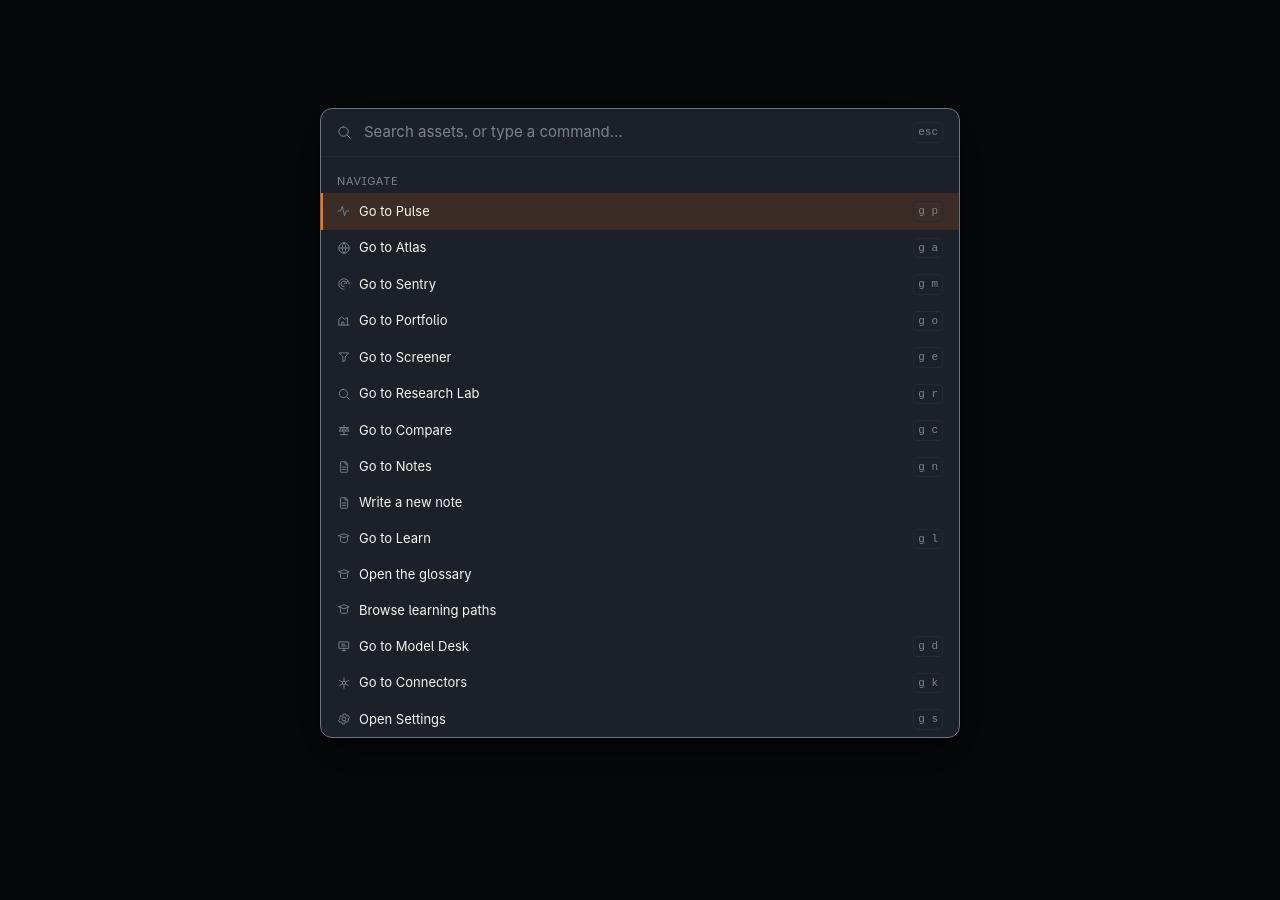
Test: CommandPalette › matches commands by keyword, not only by title
Type "sidebar" into the dropdown. click: (633, 132)
box: [352,121,913,144]
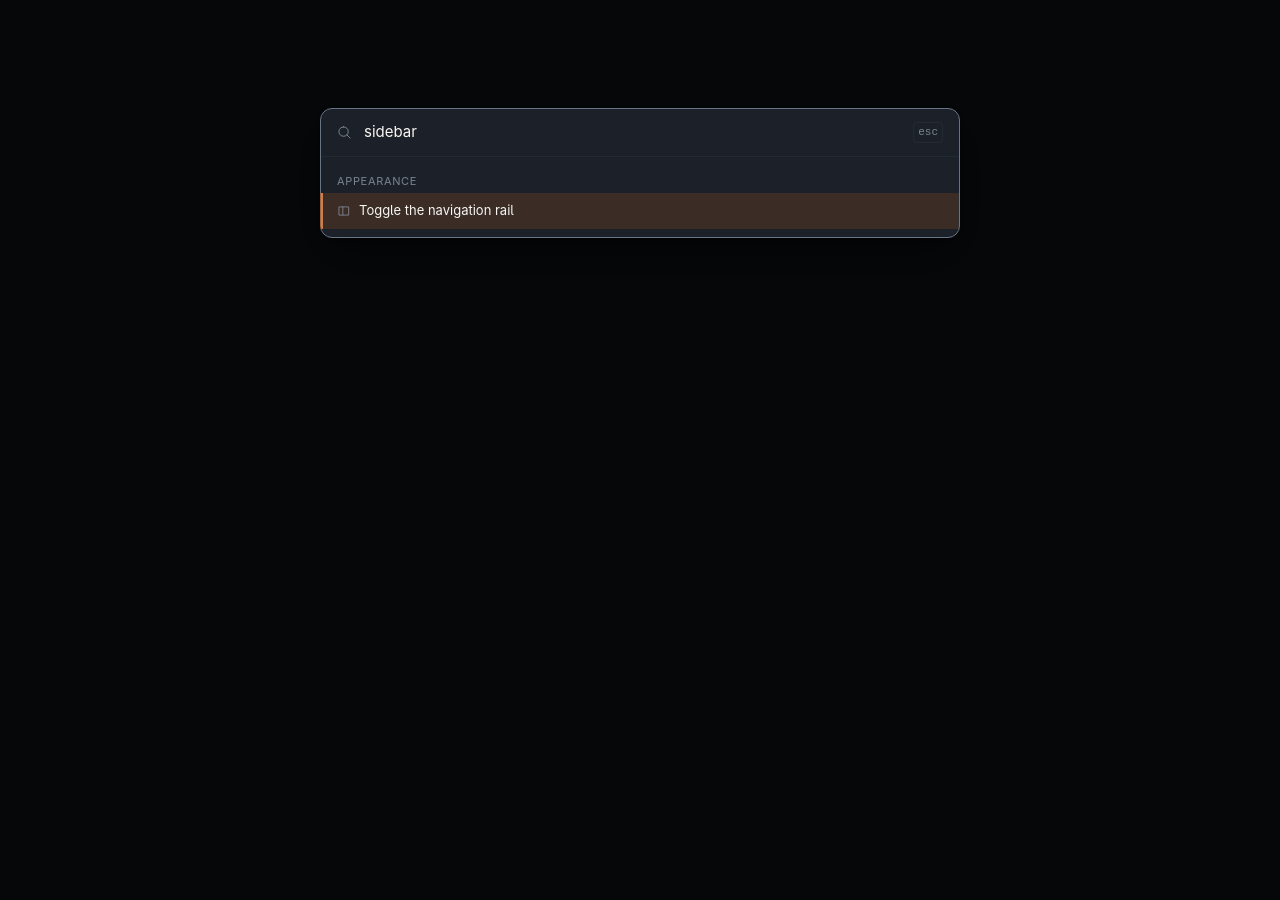
Now the option "Toggle the navigation rail" is shown, box [321,193,959,228]
